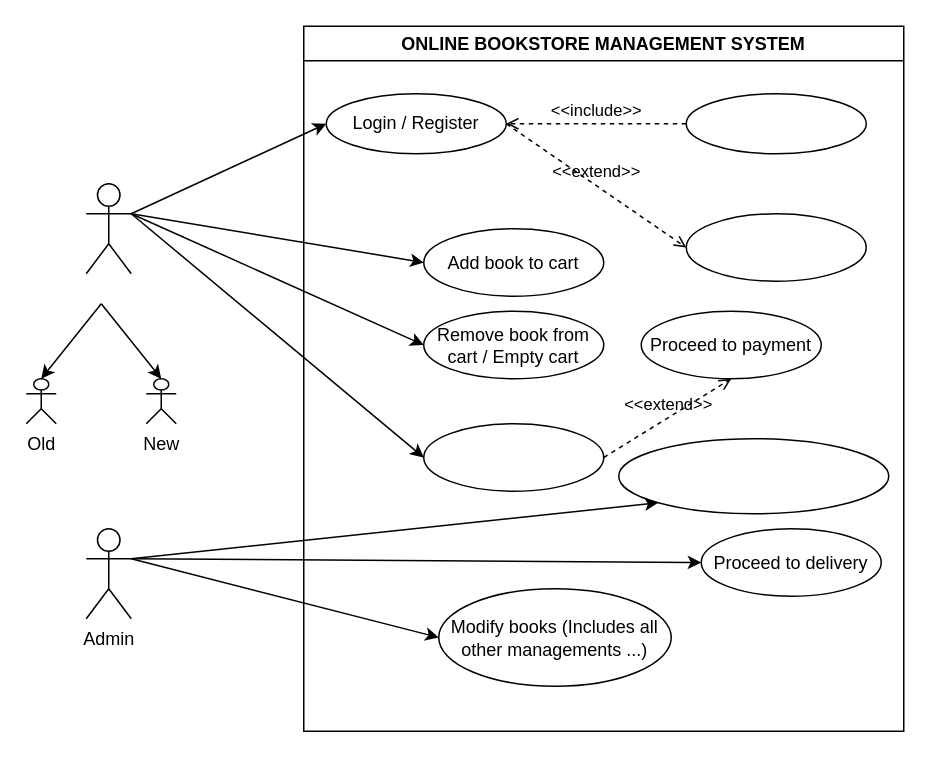
This 930x758 diagram has some shape labels left out. Here are the shapes that lost their labels. From the top down, the centre of each, then its label:
At (775,123): "Generate error message".
At (108,228): "Customer".
At (775,246): "Verify Login".
At (513,456): "Proceed to Placing order".
At (753,475): "Verify user details (all details including delivery info...)".
